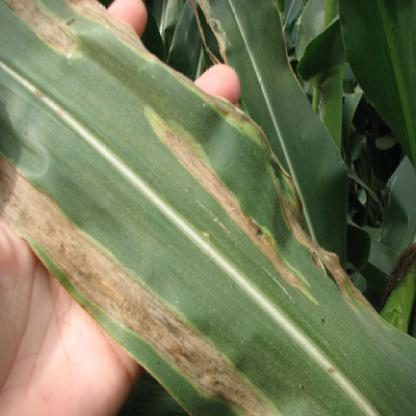Corn leaf blight: (1, 1, 379, 401)
